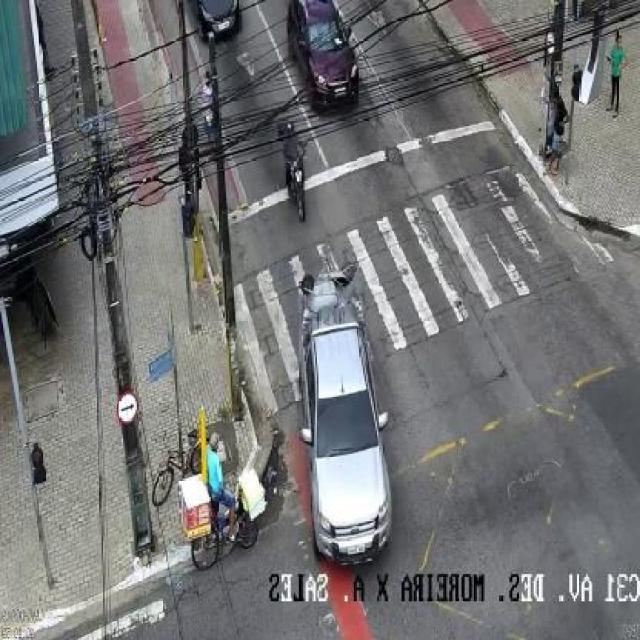Car: (291, 266, 395, 576), (288, 0, 372, 114), (168, 0, 248, 66)
Cycle: (175, 403, 270, 619), (266, 122, 335, 236)
